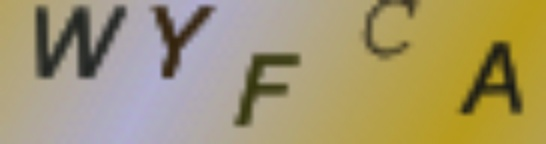A: (456, 39, 530, 120)
C: (359, 1, 424, 64)
F: (231, 52, 306, 129)
W: (30, 1, 128, 80)
Y: (143, 1, 219, 85)
